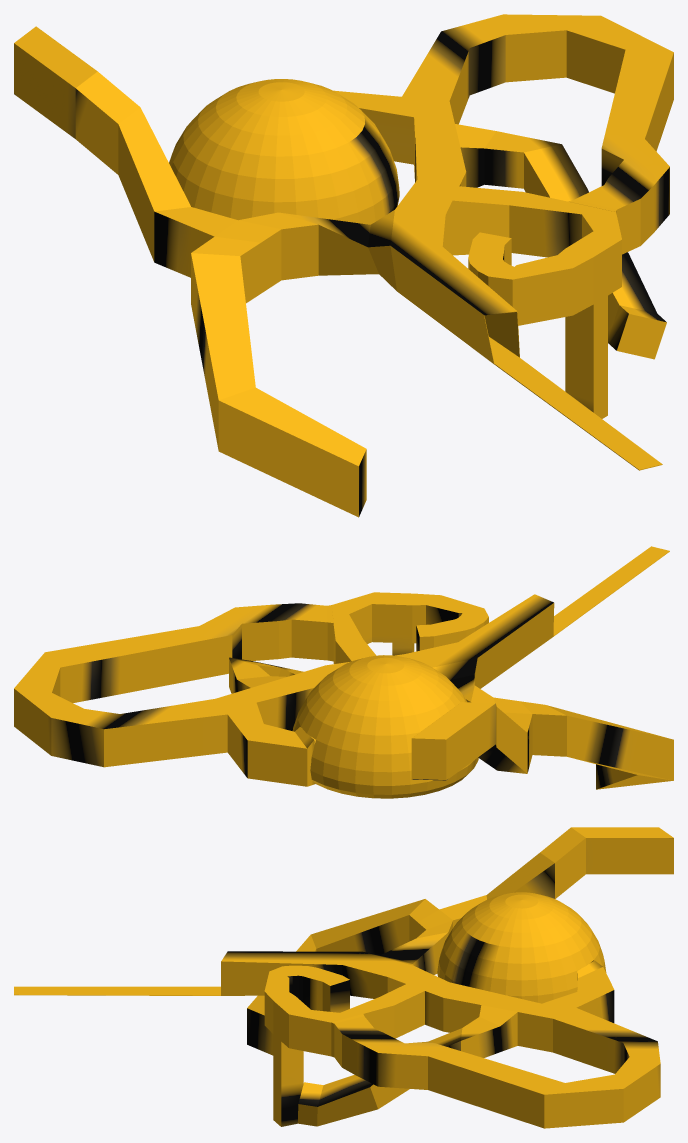
3 views of the same model, one above another, from view 1: azimuth 30°, elevation 25°; view 2: azimuth 150°, elevation 25°; view 3: azimuth 270°, elevation 25° (orthographic). The views are drawn at different scales.
Parts seen in each view (by area): view 1: torch_torch_0.003; view 2: torch_torch_0.003; view 3: torch_torch_0.003.
Part boxes in pixels (box(x1,y1,x2,y2)): torch_torch_0.003: box(14, 14, 673, 517); torch_torch_0.003: box(14, 546, 673, 798); torch_torch_0.003: box(14, 827, 673, 1128).
Size of the model in its own units: 6669 by 2895 by 8629.
